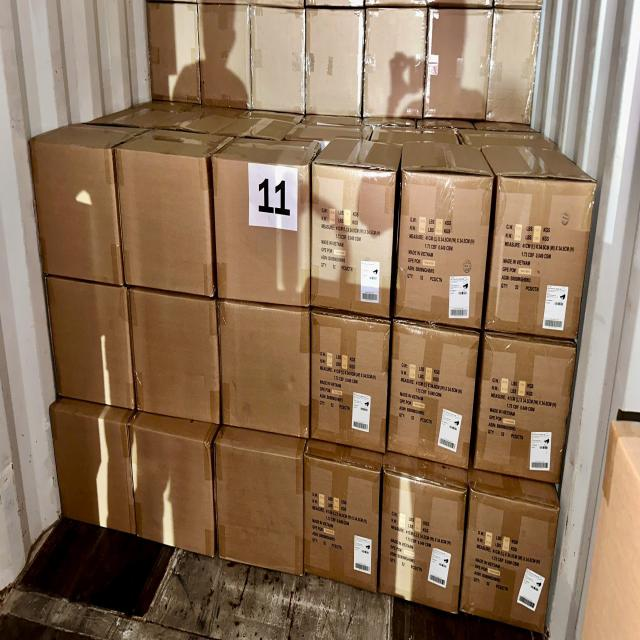Carton: (114, 146, 216, 304), (210, 157, 310, 311), (495, 177, 583, 342), (29, 138, 122, 286), (465, 487, 556, 633), (401, 168, 481, 329), (214, 437, 304, 579), (312, 163, 392, 321), (484, 334, 568, 484), (128, 289, 220, 425), (217, 302, 309, 438), (129, 418, 215, 562), (46, 277, 134, 408), (381, 467, 459, 614), (393, 322, 469, 470), (49, 405, 133, 535), (311, 313, 387, 456), (304, 449, 376, 593)
